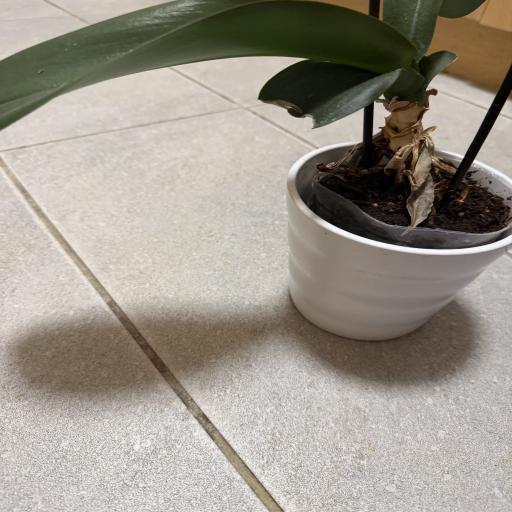Plant Pot: (285, 139, 512, 343)
